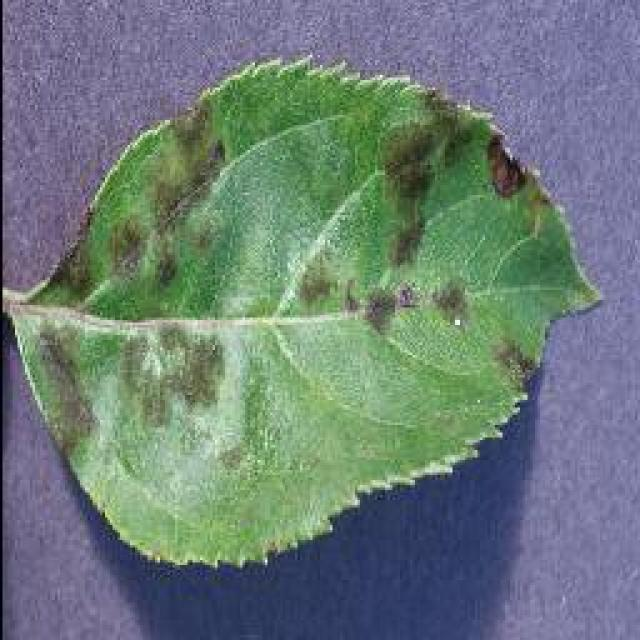apple scab disease: (2, 50, 602, 570)
